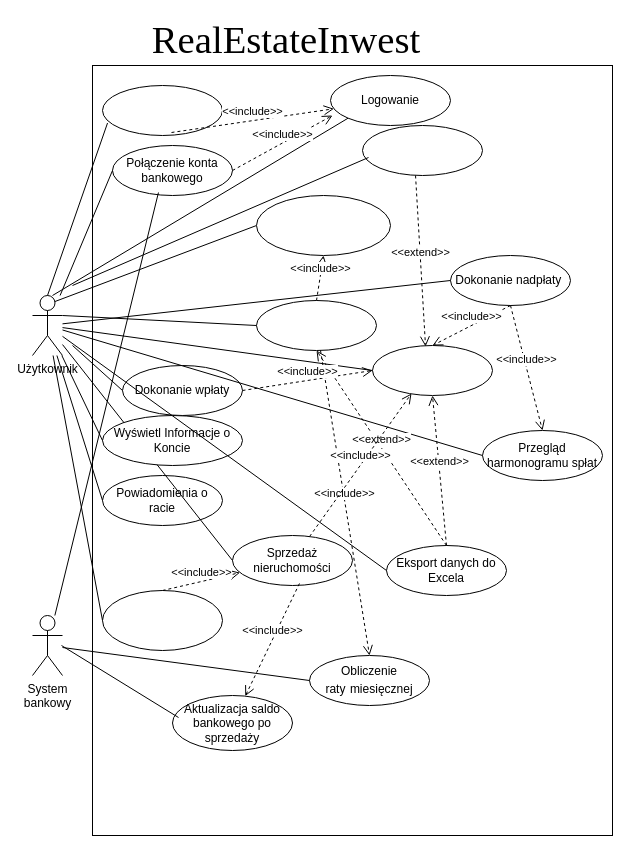
Some shapes in this 630 by 861 pixel diagram are drawn without their labels. The centre of each missing label's shape, as x and y in pixels:
Dodanie inwestycji: pixel 316 325
Określenie parametrów inwestycji: pixel 323 225
Pobrać raport PDF (historia spłat): pixel 422 150
Przegląd historię wpłat: pixel 432 370
Rejestracja konta: pixel 162 110
Zapisanie kwoty wpływu ze sprzedaży: pixel 162 620
